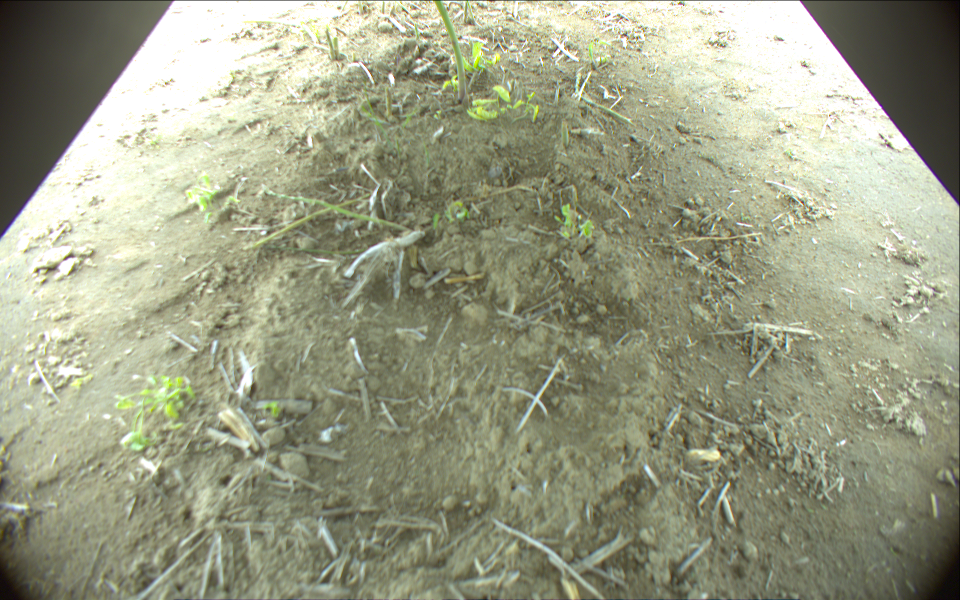aspa: (244, 190, 370, 254), (258, 187, 411, 234), (430, 1, 468, 102), (576, 74, 633, 124), (412, 21, 426, 47), (324, 27, 335, 57), (384, 89, 393, 122), (588, 40, 594, 69), (462, 1, 469, 24), (333, 35, 338, 57), (380, 1, 388, 14), (358, 1, 365, 14)
